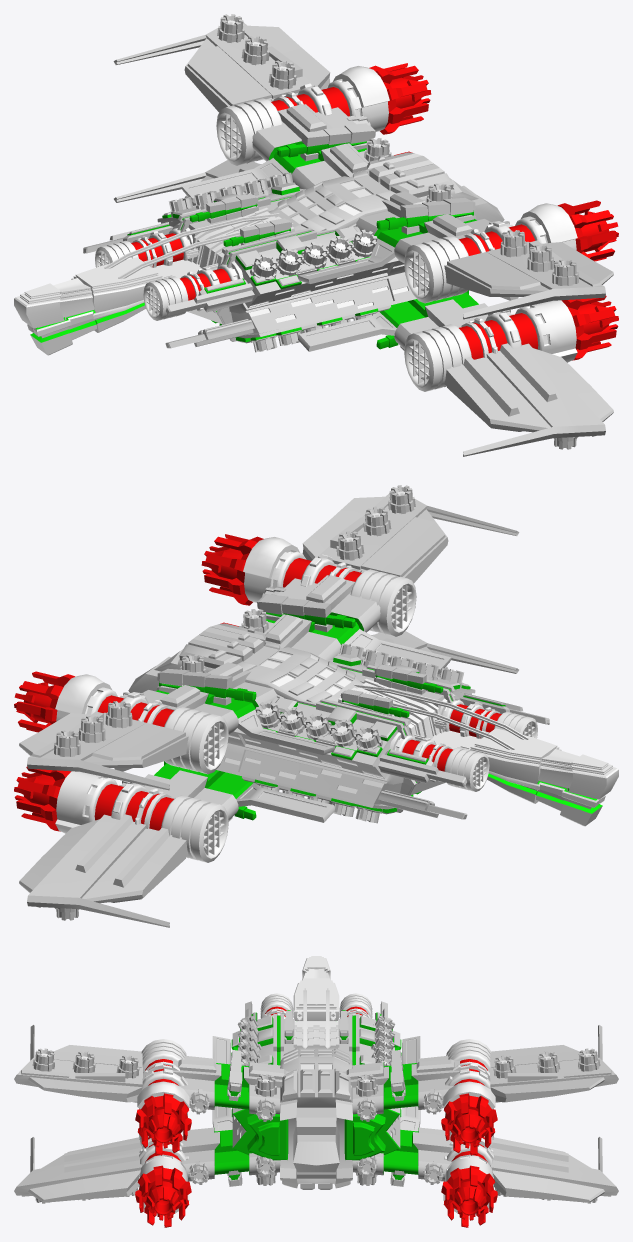
Rendered from Water_ship.FBX.
3 views of the same model, one above another, from view 1: azimuth 30°, elevation 25°; view 2: azimuth 150°, elevation 25°; view 3: azimuth 270°, elevation 25° (orthographic). The views are drawn at different scales.
Parts seen in each view (by area): view 1: Wings, Engines back, Storage, Front, Cube, Hull, Stabilisers, Engines, Cannons_back, Cannons, Stabilisers.001, Stabilisers.003 (+3 smaller); view 2: Wings, Engines back, Storage, Front, Cube, Hull, Stabilisers, Engines, Cannons_back, Cannons, Stabilisers.001, Stabilisers.003 (+3 smaller); view 3: Wings, Engines back, Storage, Cube, Back, Hull, Front, Stabilisers, Cannons_back, Stabilisers.006, Stabilisers.005, Engines (+5 smaller).
Boxes of the visible parts, box(x1,y1,x2,y2) form: Wings: box(113, 25, 613, 456); Engines back: box(216, 63, 618, 391); Storage: box(83, 183, 416, 348); Front: box(14, 207, 294, 355); Cube: box(187, 22, 600, 436); Hull: box(269, 152, 453, 231); Stabilisers: box(169, 172, 377, 352); Engines: box(95, 223, 243, 320); Cannons_back: box(277, 123, 476, 350); Cannons: box(189, 193, 292, 246); Stabilisers.001: box(217, 14, 578, 449); Stabilisers.003: box(268, 60, 527, 257); Wings: box(19, 496, 519, 927); Engines back: box(14, 534, 416, 862); Storage: box(216, 654, 549, 819); Front: box(338, 678, 618, 826); Cube: box(32, 493, 445, 907); Hull: box(179, 623, 363, 702); Stabilisers: box(255, 643, 463, 823); Engines: box(389, 694, 537, 791); Cannons_back: box(156, 594, 355, 821); Cannons: box(340, 664, 443, 717); Stabilisers.001: box(54, 485, 415, 920); Stabilisers.003: box(105, 531, 364, 728); Wings: box(14, 1025, 618, 1202); Engines back: box(135, 1039, 497, 1227); Storage: box(231, 1001, 401, 1160); Cube: box(21, 1045, 611, 1196); Back: box(280, 1086, 352, 1183); Hull: box(280, 1047, 352, 1189); Front: box(293, 956, 339, 1048); Stabilisers: box(237, 1016, 395, 1066); Cannons_back: box(227, 1047, 405, 1186); Stabilisers.006: box(188, 1089, 444, 1184); Stabilisers.005: box(255, 1098, 377, 1177); Engines: box(260, 993, 372, 1018).
Size of the model in its own units: 225848 by 174883 by 61303.
